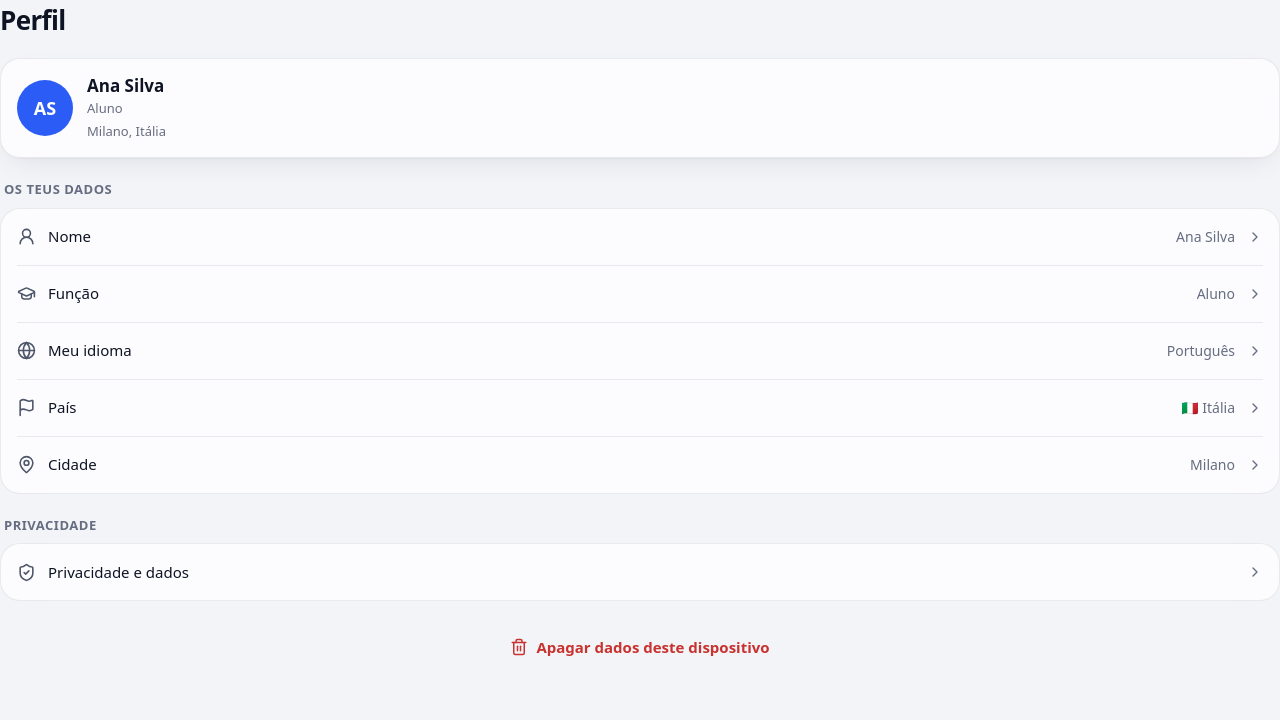
Test: ProfilePage › edits the name through the sheet
Click the button "Nome Ana Silva" at (69,236), box [1, 209, 1279, 265]
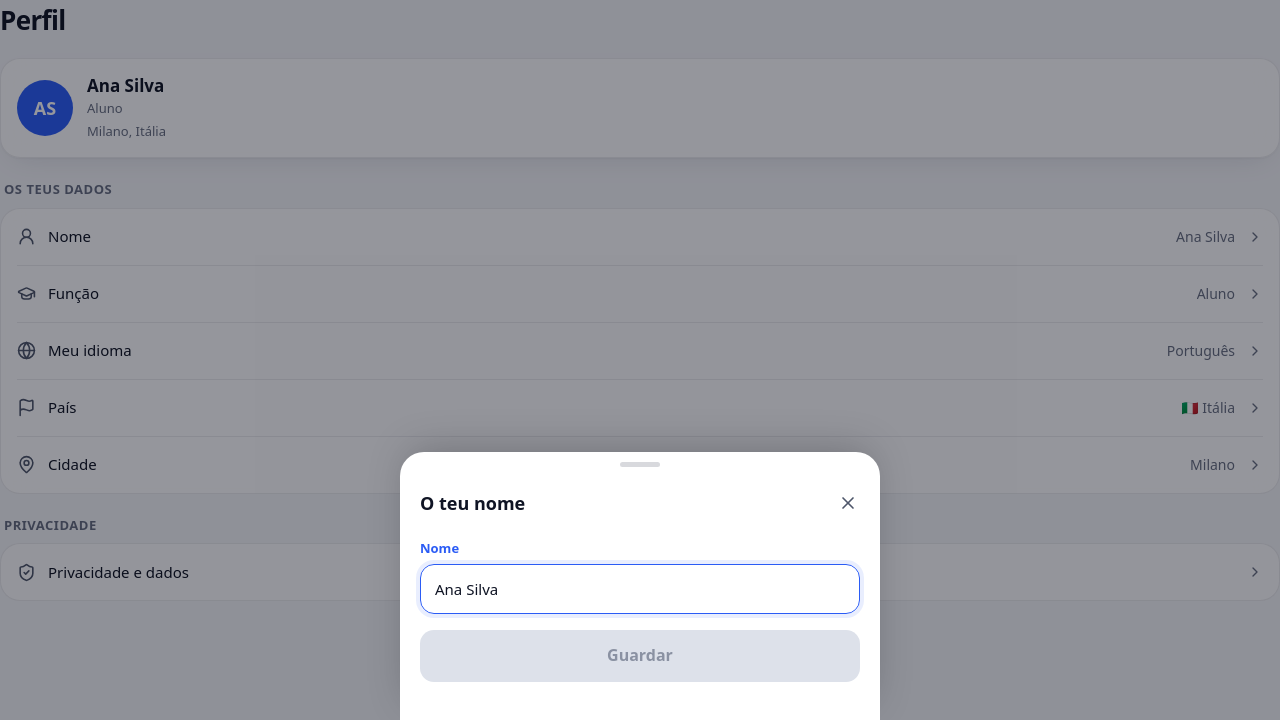
Expected: the button "Guardar" is disabled, [420, 630, 860, 682]
Clear the field labelled "Nome" at (640,589), box [420, 564, 860, 614]
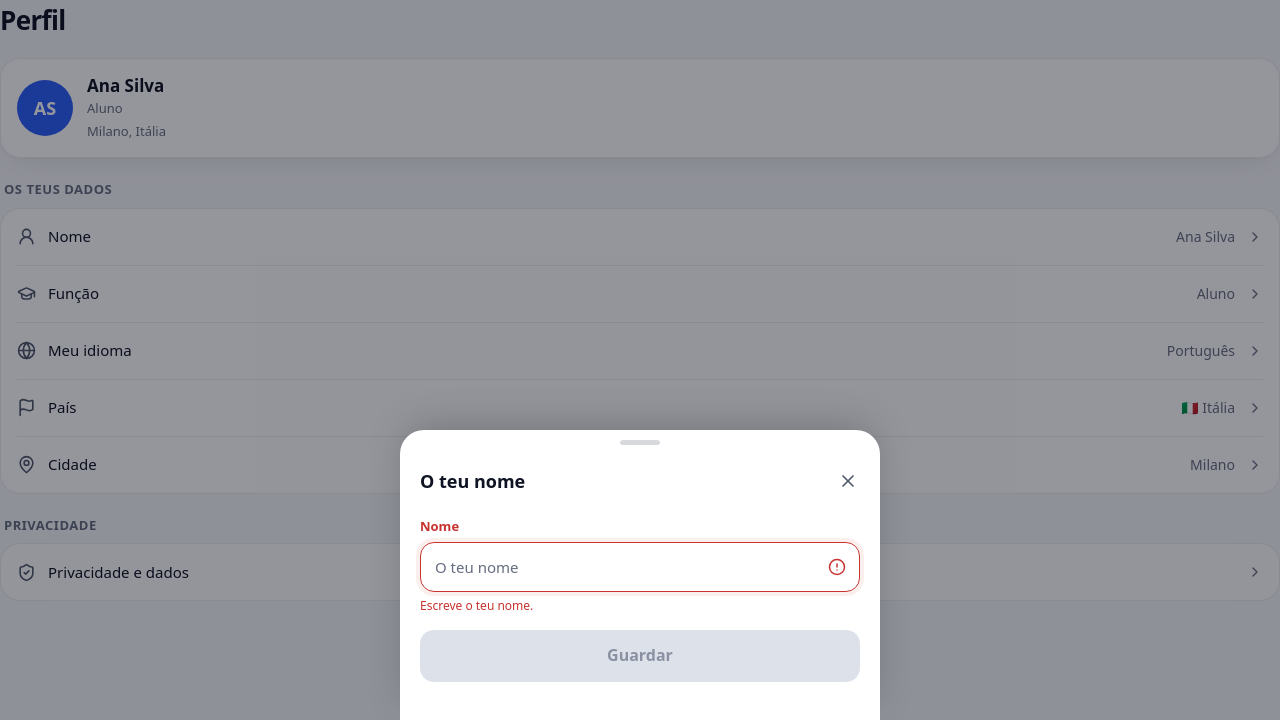
Type "Ana Costa" into the field labelled "Nome" at (640,567), box [420, 542, 860, 592]
Then press Enter
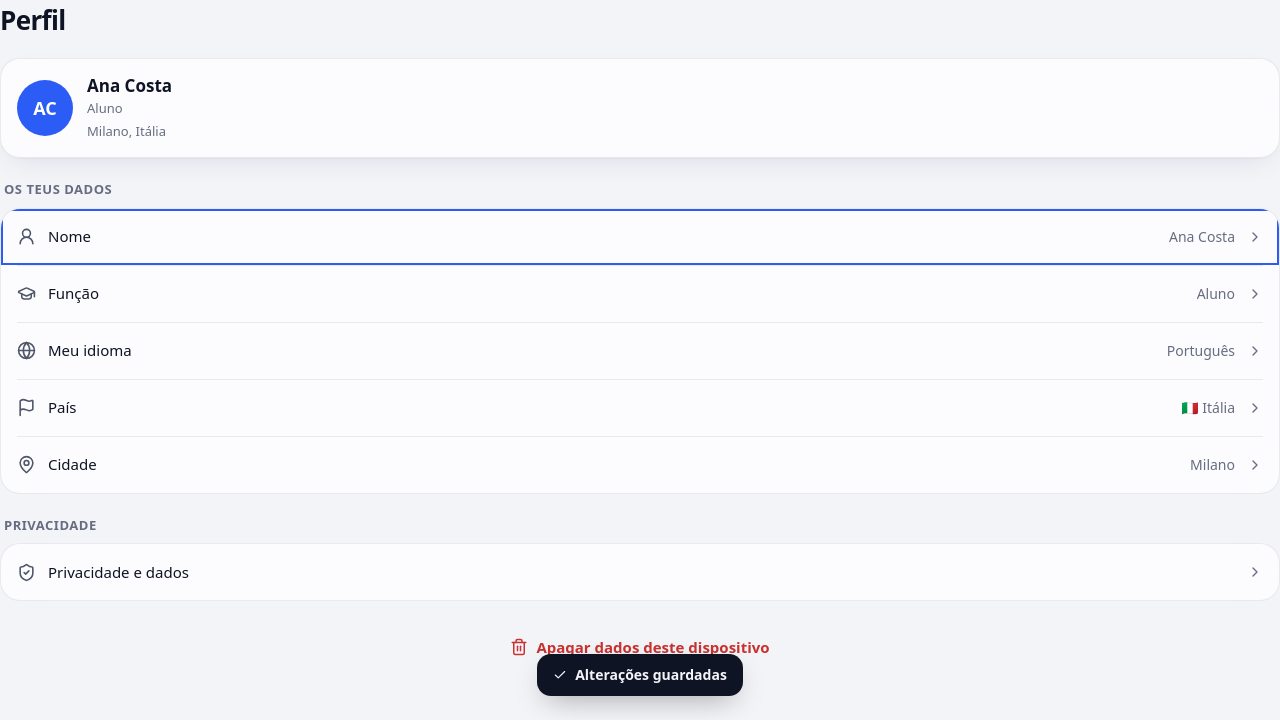
Expected: the dialog is gone
Expected: the 1st text "Ana Costa" is shown, [87, 75, 172, 96]
Expected: the text "Alterações guardadas" is shown, [575, 665, 727, 685]
